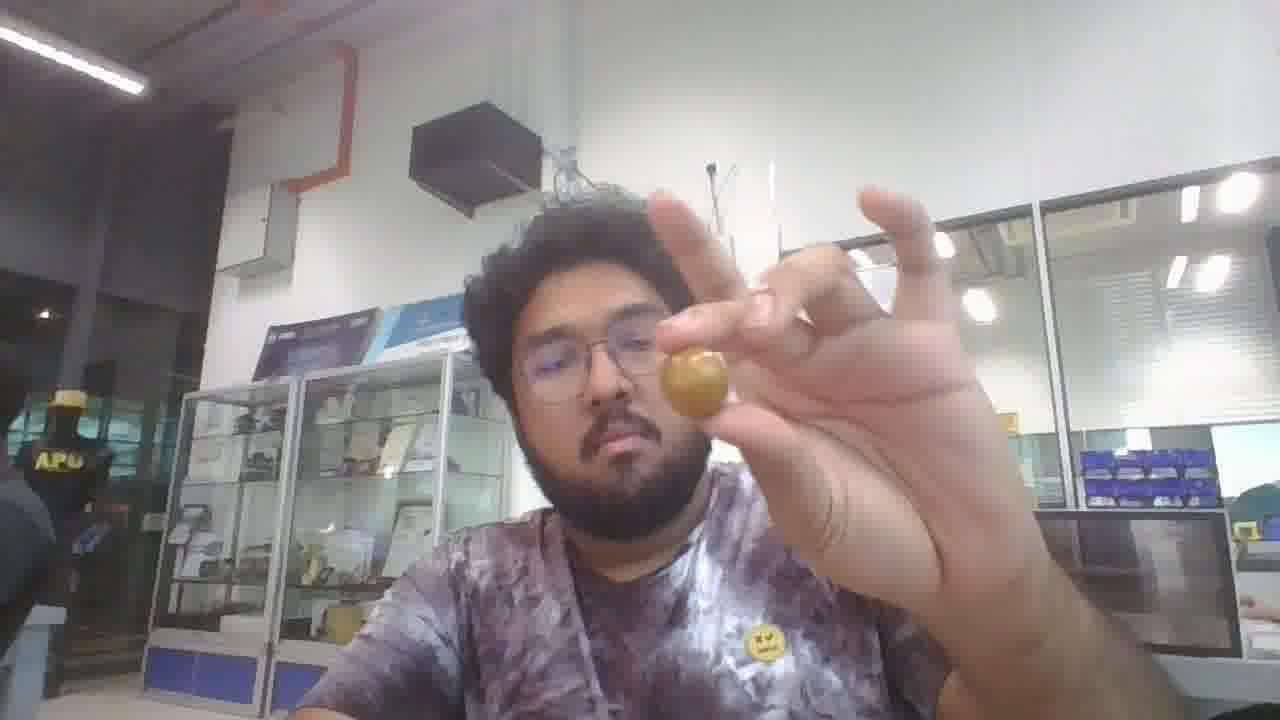yellow_cherry_tomato: (661, 348, 728, 418)
